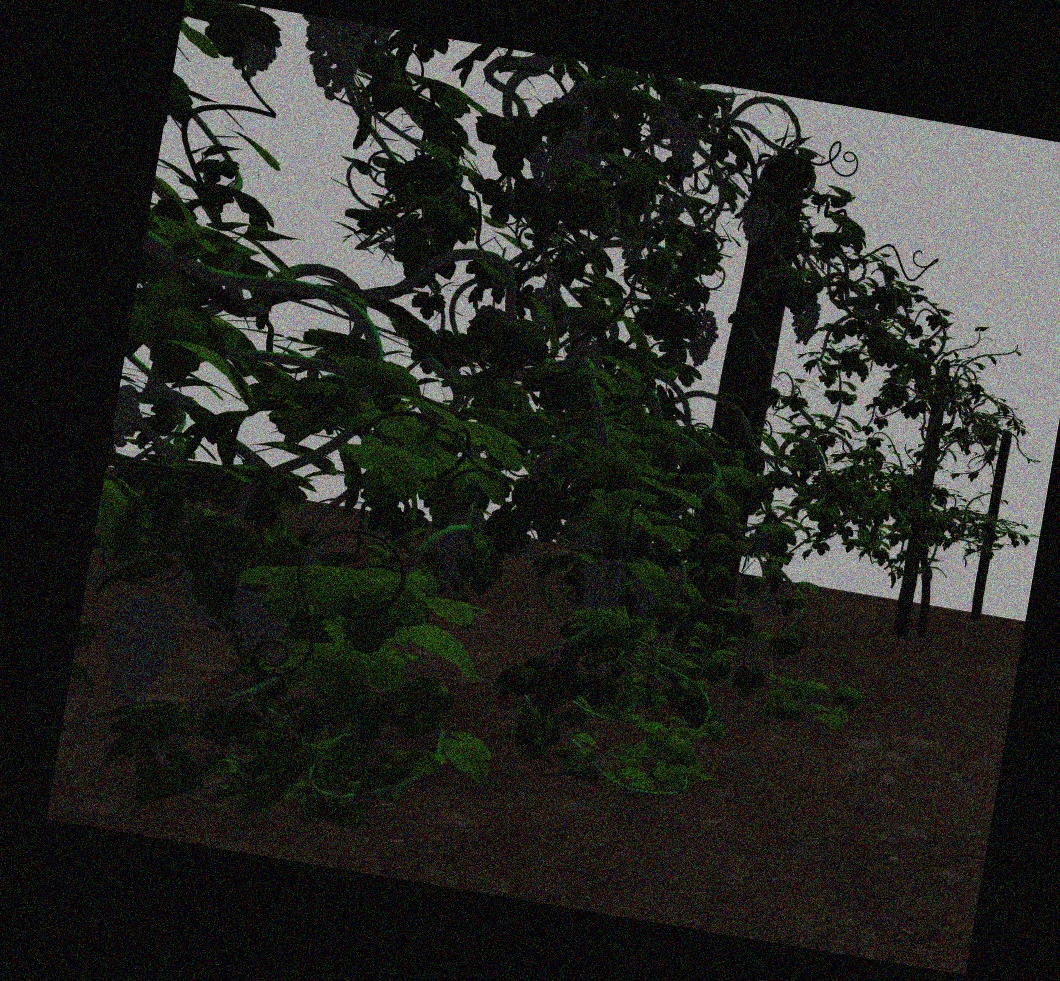grape: (94, 597, 180, 704), (227, 581, 299, 663), (298, 29, 368, 101), (547, 94, 590, 164), (584, 553, 626, 613), (230, 32, 278, 82), (437, 518, 472, 580), (666, 116, 701, 170), (687, 310, 718, 367), (526, 142, 560, 192), (789, 299, 820, 347), (739, 199, 769, 248), (117, 387, 145, 434), (628, 576, 658, 617), (761, 576, 786, 616)
